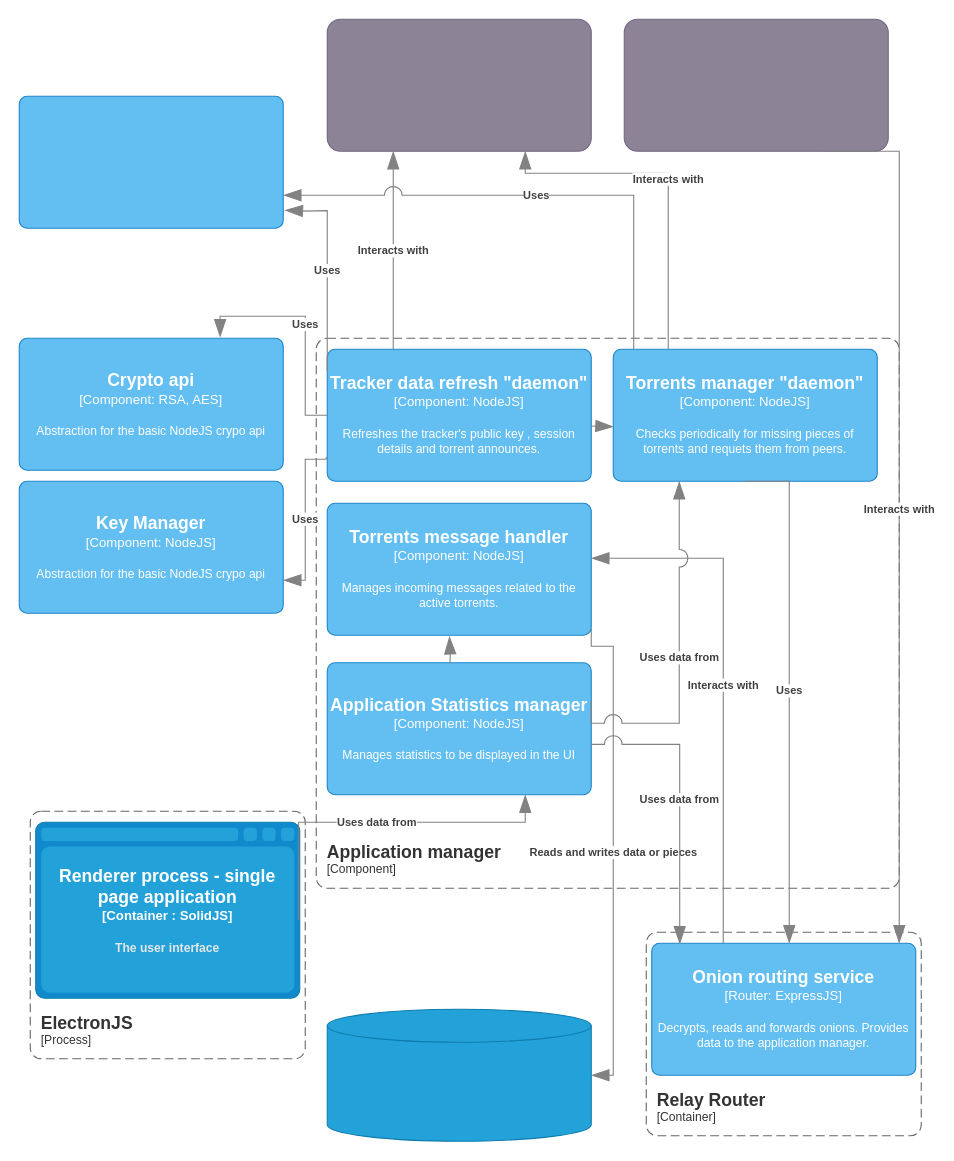
This 954x1161 diagram has some shape labels left out. The centre of each missing label's shape, as x and y in pixels:
File system [ NTFS: fs api] Computer disk storage: (458,1074)
Torano client [Software System] Other user's torano client: (755,84)
Torano tracker [Software System]: (458,84)
Tracker Api [Component: NodeJS] Abstraction for the tracker api: (150,161)
